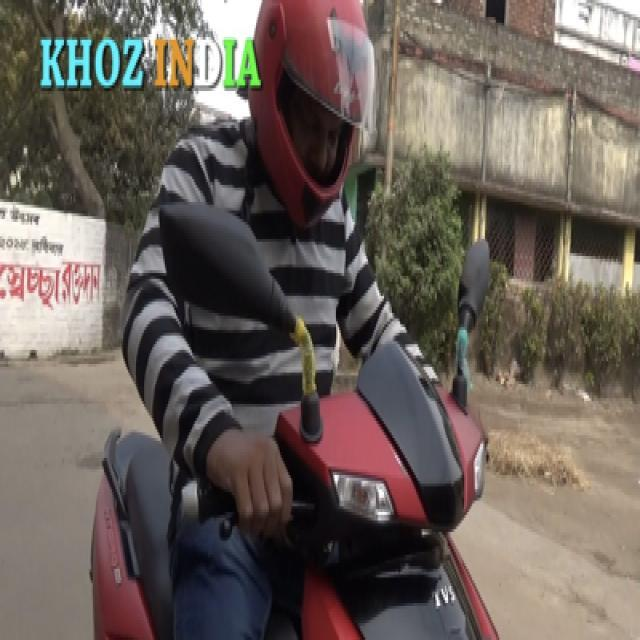Helmet: (253, 5, 381, 234)
